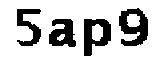5: (12, 5, 44, 49)
9: (116, 6, 152, 52)
a: (48, 17, 77, 51)
p: (80, 15, 113, 60)
